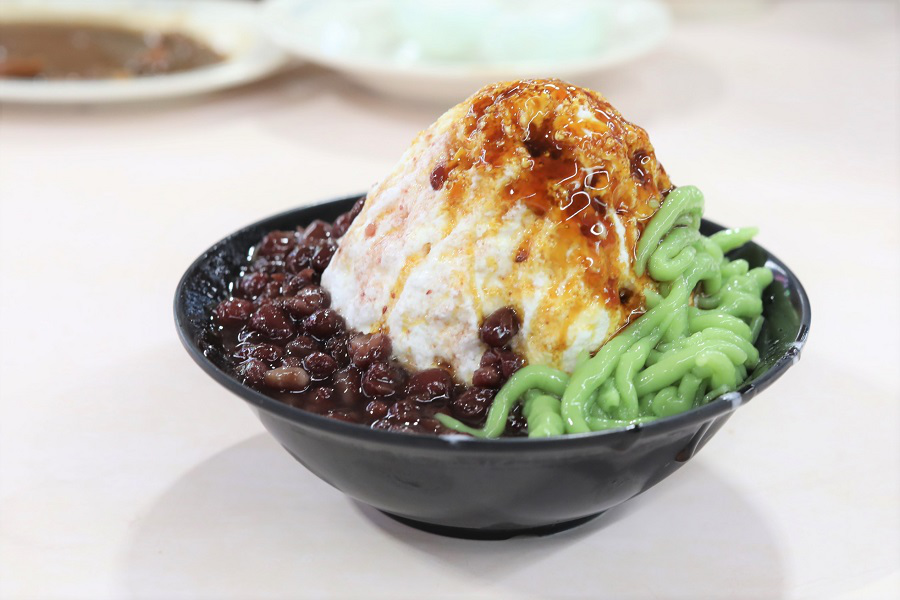Chendol: (208, 85, 808, 486)
